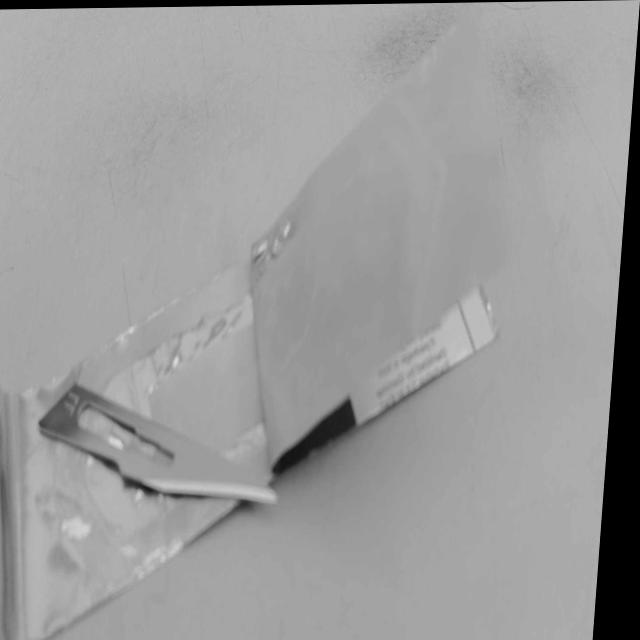General: (5, 276, 279, 639)
Pathological: (4, 3, 637, 638)
Sharps: (38, 381, 279, 506)
